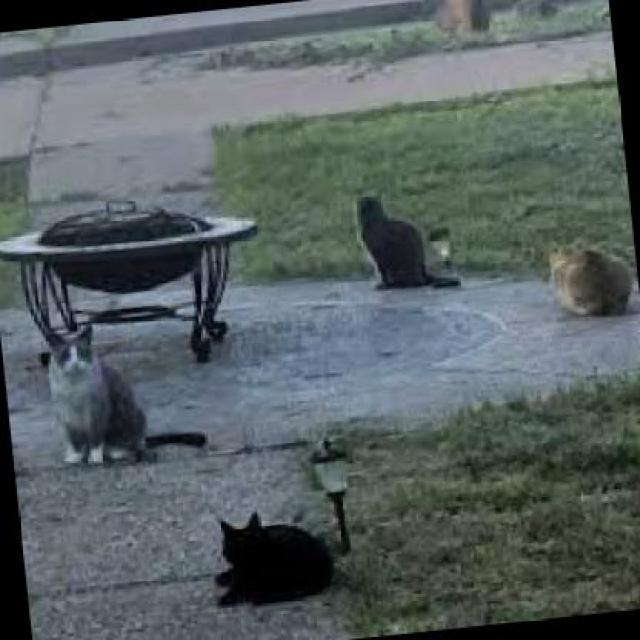animals: (22, 303, 244, 489), (328, 174, 472, 309), (194, 497, 344, 618), (516, 219, 636, 332)
